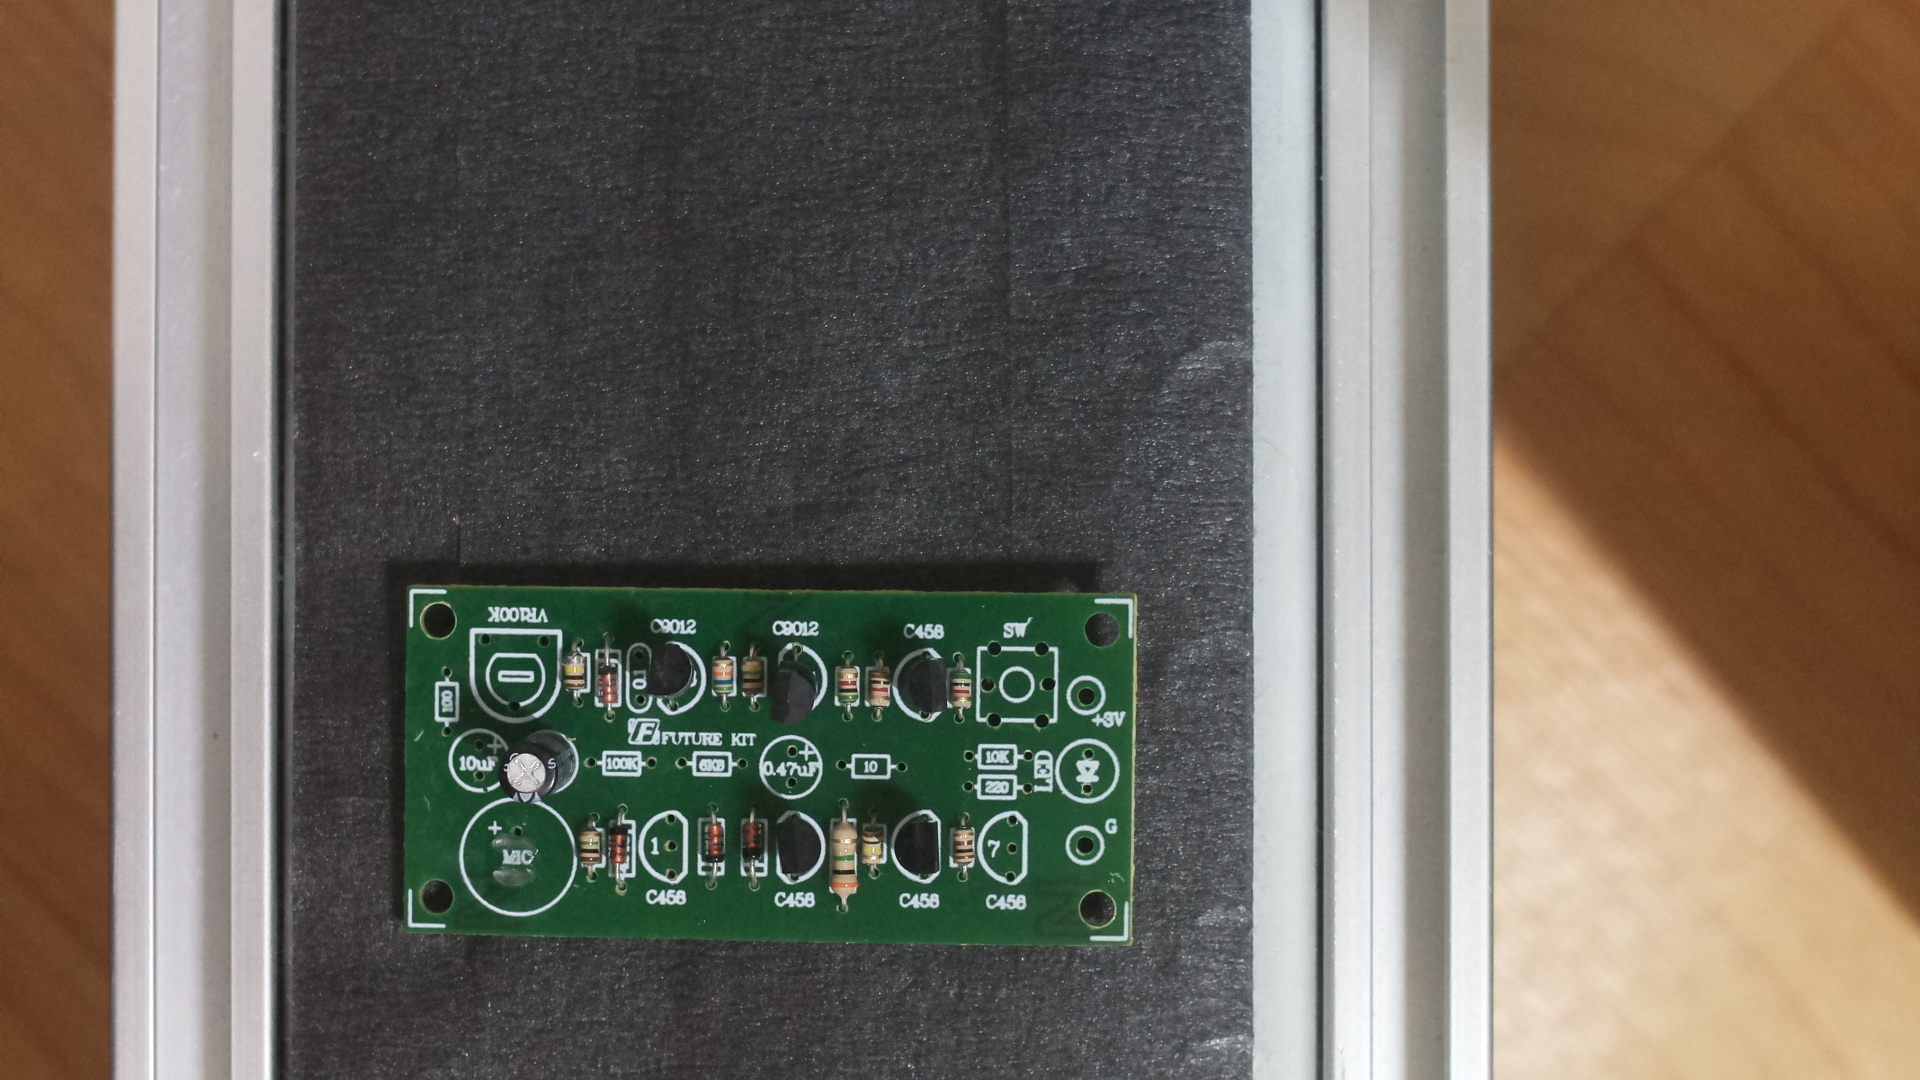A_Missing_part: (382, 570, 1149, 961)
